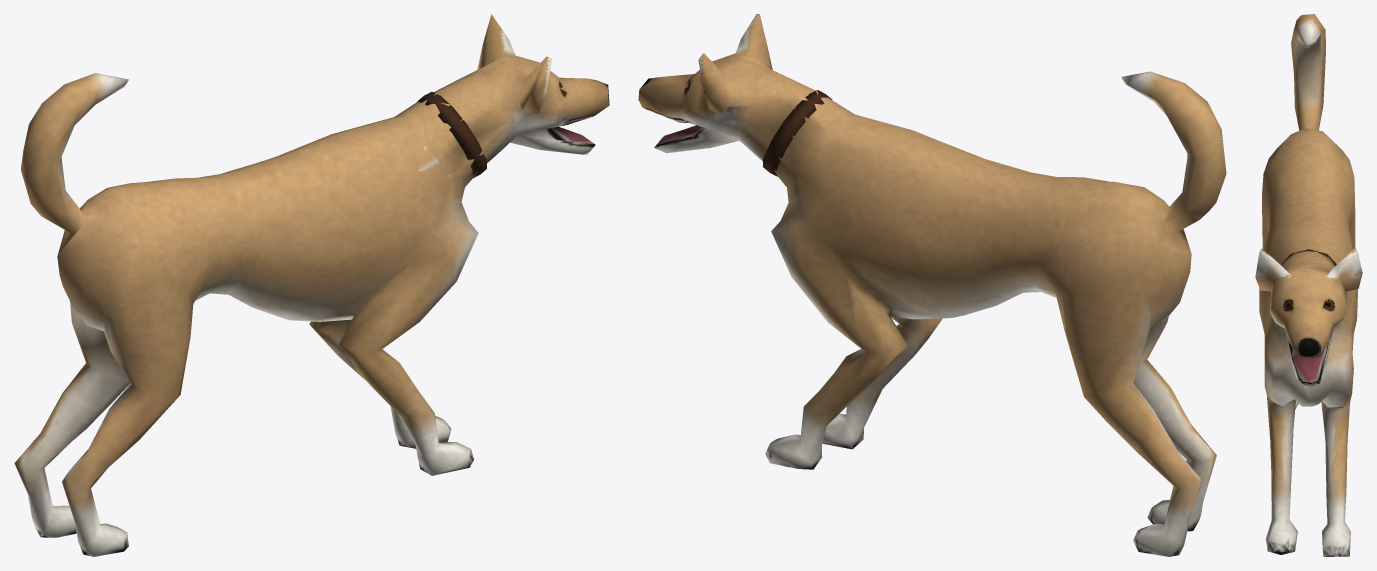
Rendered from dog_bark_lod1.glb.
The picture shows the model from 3 angles, left to right: view 1: azimuth 30°, elevation 25°; view 2: azimuth 150°, elevation 25°; view 3: azimuth 270°, elevation 25°; orthographic projection. The views are drawn at different scales.
Parts seen in each view (by area): view 1: dog_bark_lod1_mesh; view 2: dog_bark_lod1_mesh; view 3: dog_bark_lod1_mesh.
Boxes of the visible parts, x1,y1,x2,y2 form: dog_bark_lod1_mesh: [14, 14, 609, 556]; dog_bark_lod1_mesh: [638, 14, 1226, 556]; dog_bark_lod1_mesh: [1255, 14, 1362, 556].
Size of the model in its own units: 0.9211 by 0.7036 by 0.1754.
Materials: 1 (1 with a texture image).
